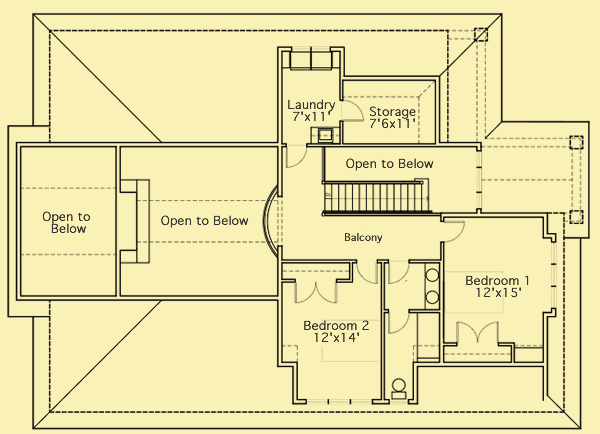door: (293, 278, 341, 305), (454, 320, 501, 346), (337, 98, 364, 124), (440, 219, 466, 244), (355, 261, 382, 285), (283, 143, 308, 168), (386, 259, 410, 283), (388, 309, 410, 334)
large_sink: (388, 376, 410, 400)
small_sink: (422, 260, 440, 312)
stairs: (317, 179, 430, 218)
window: (546, 239, 559, 310), (472, 148, 487, 209), (305, 395, 372, 407)
